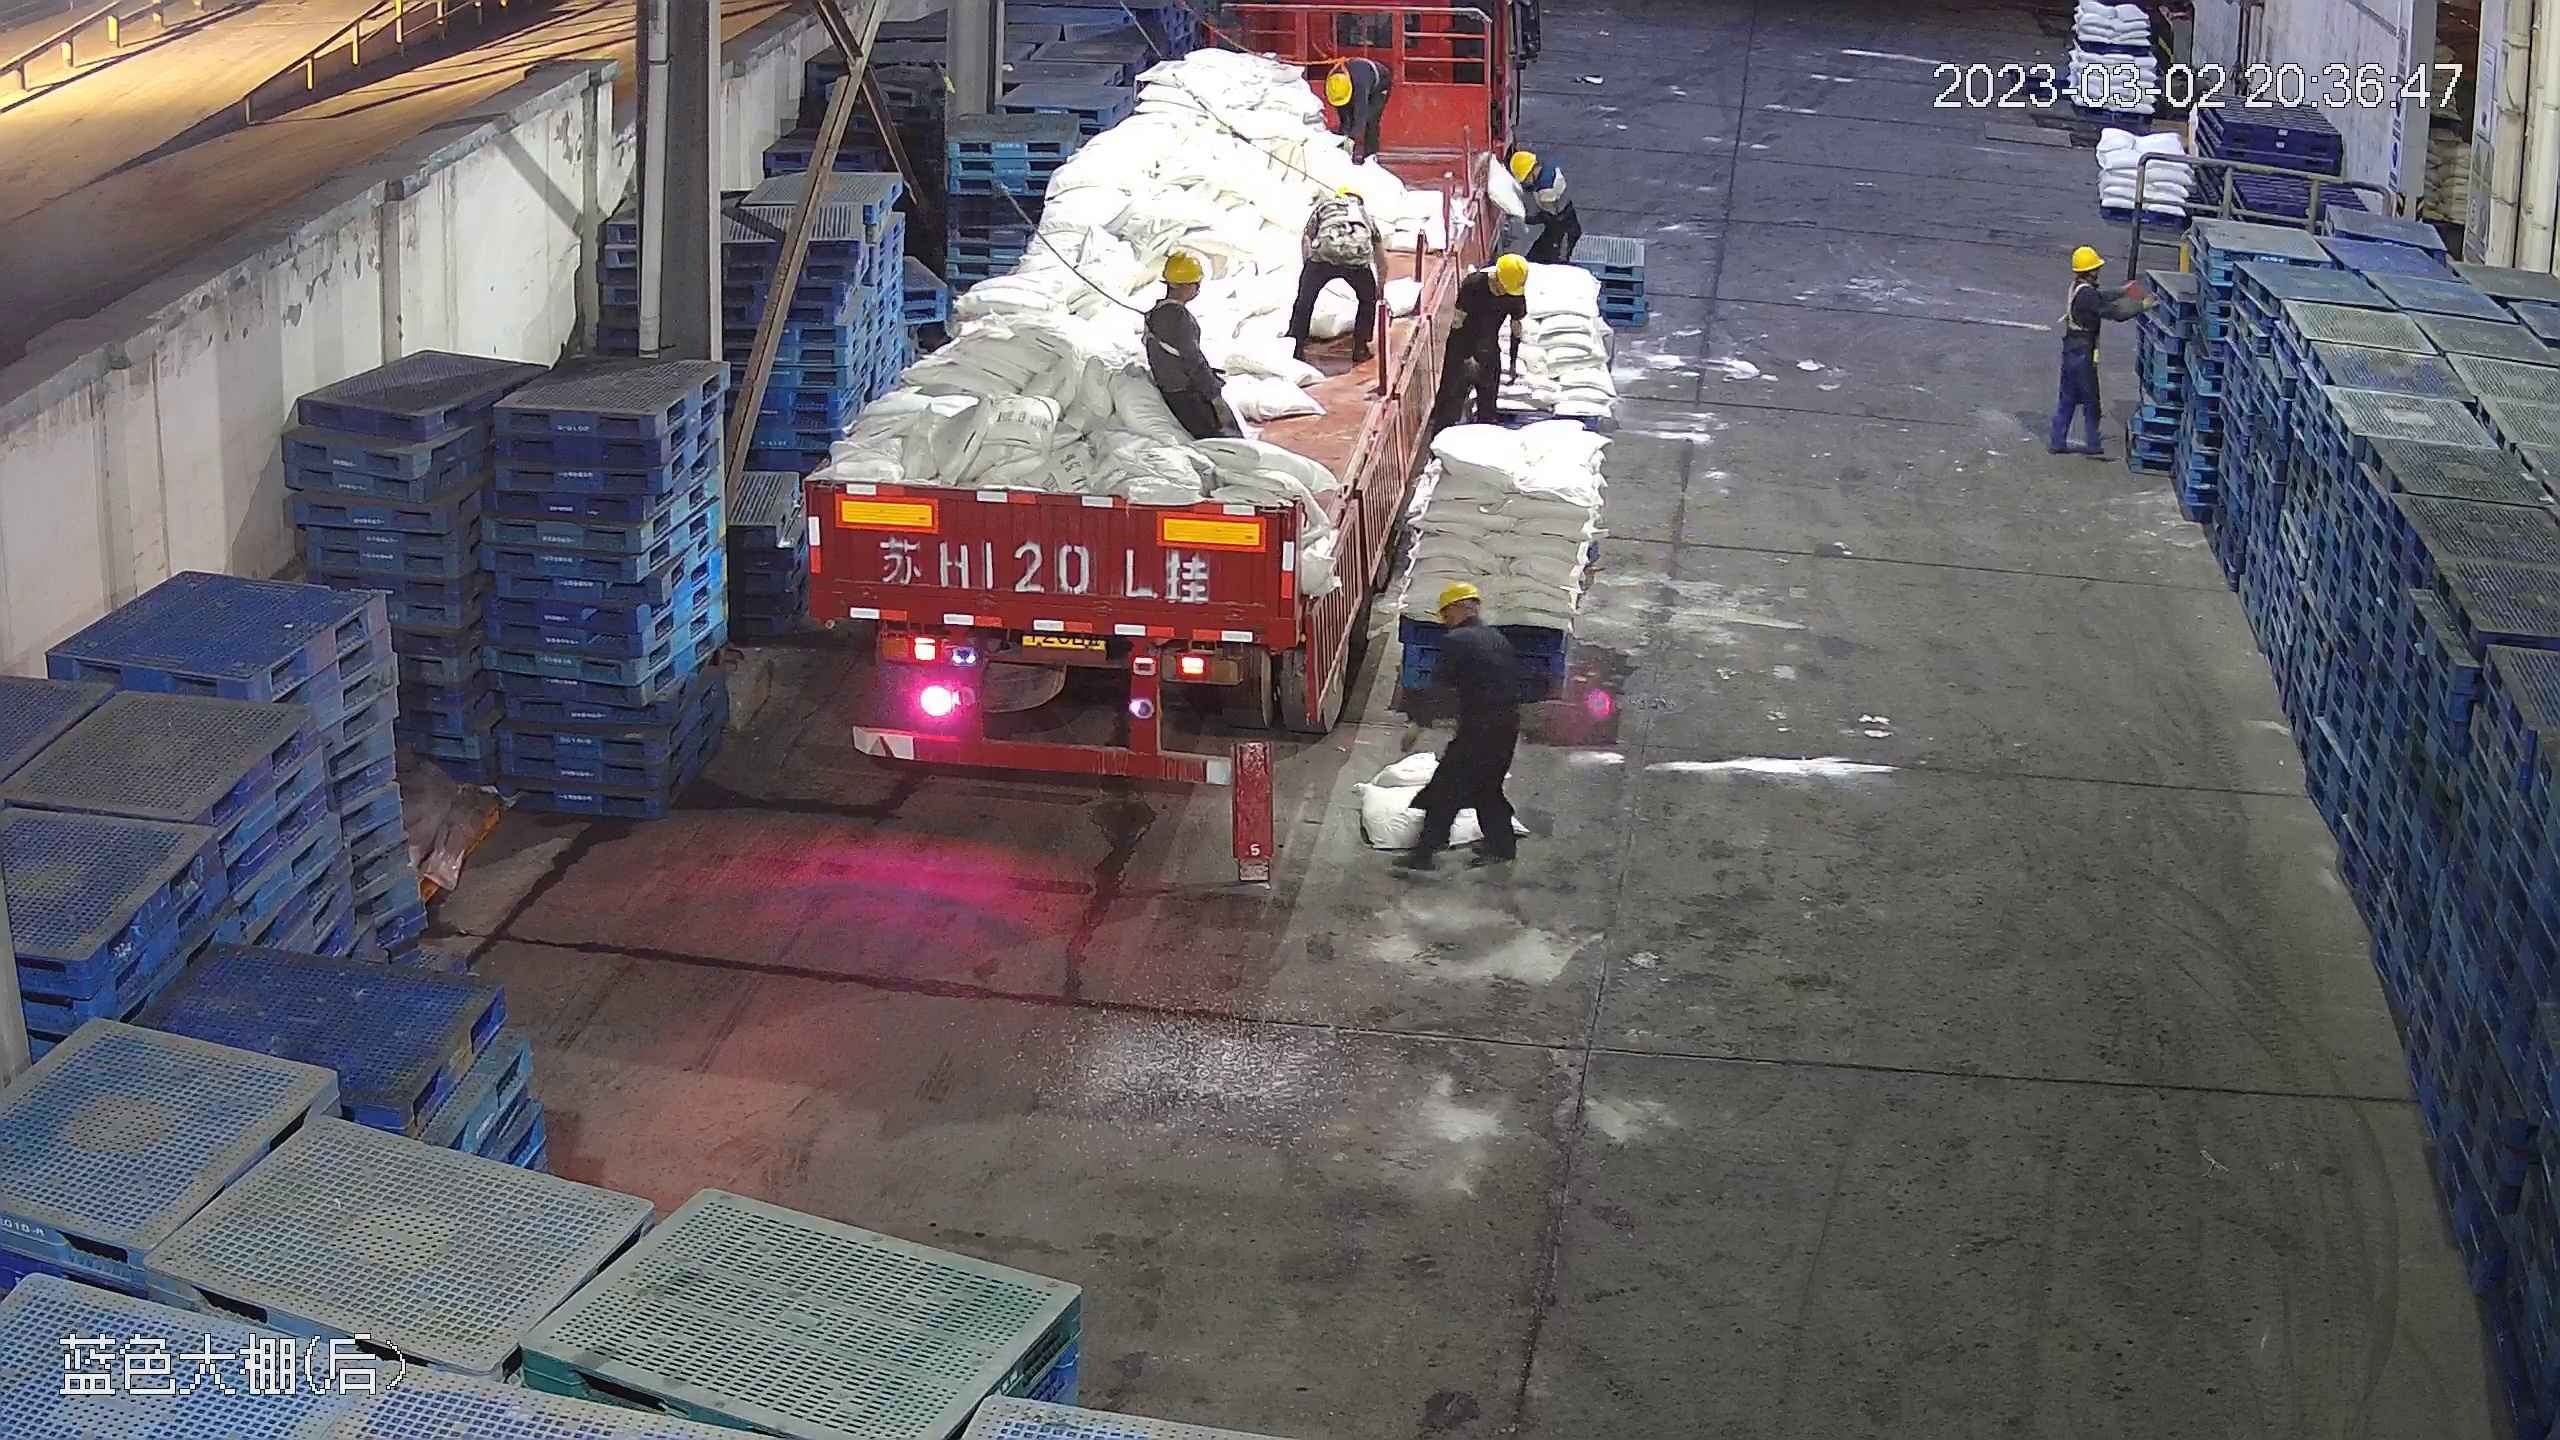belt: (1444, 265, 1503, 323), (1317, 188, 1375, 247), (1135, 295, 1185, 362), (1324, 50, 1375, 78)
head: (1425, 580, 1505, 673), (1141, 249, 1208, 336), (1453, 253, 1530, 324), (1501, 148, 1572, 221), (2063, 244, 2117, 314)
helmet: (1432, 580, 1482, 615), (1493, 254, 1533, 298), (1159, 249, 1205, 284), (1507, 147, 1539, 185), (1320, 69, 1350, 102), (2069, 244, 2105, 271)
people: (1388, 579, 1528, 867), (2034, 244, 2146, 467), (1288, 181, 1391, 371), (1143, 245, 1231, 442), (1440, 254, 1530, 435), (1499, 146, 1578, 259), (1316, 63, 1390, 163)
truck: (806, 21, 1526, 786)
